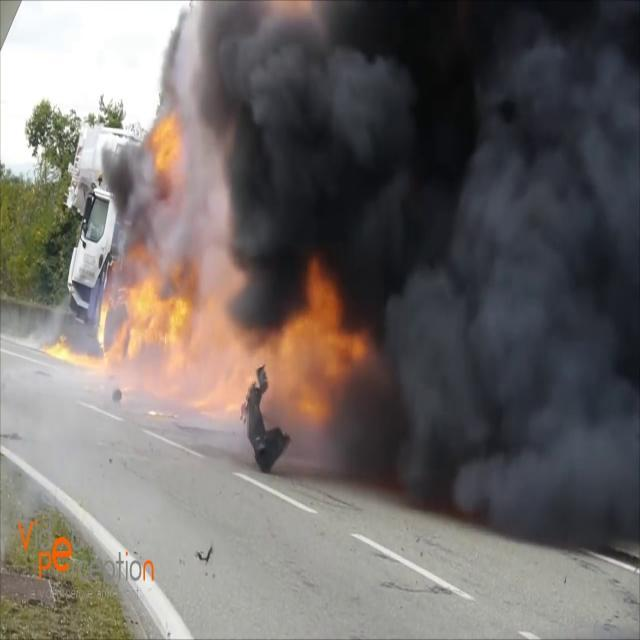Fire: (49, 252, 372, 419)
Smoke: (180, 0, 640, 531)
